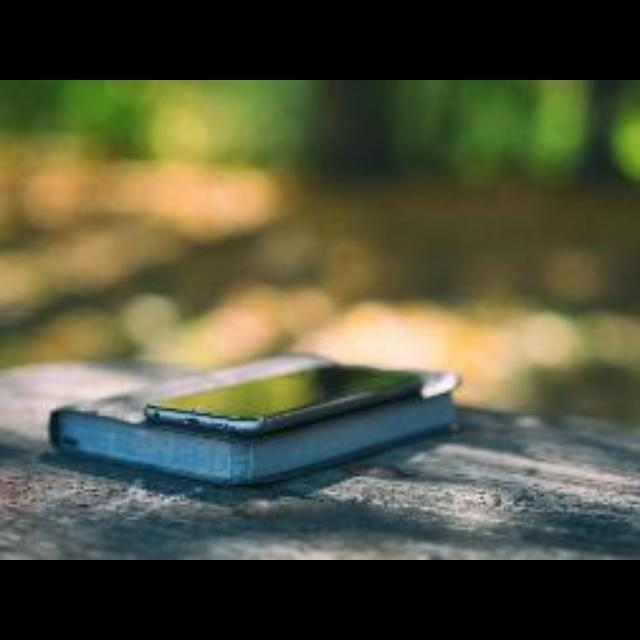Phone: (136, 353, 440, 439)
